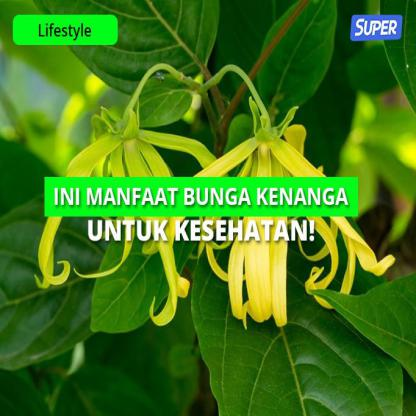Kenanga: (198, 128, 315, 315), (64, 117, 203, 269)
